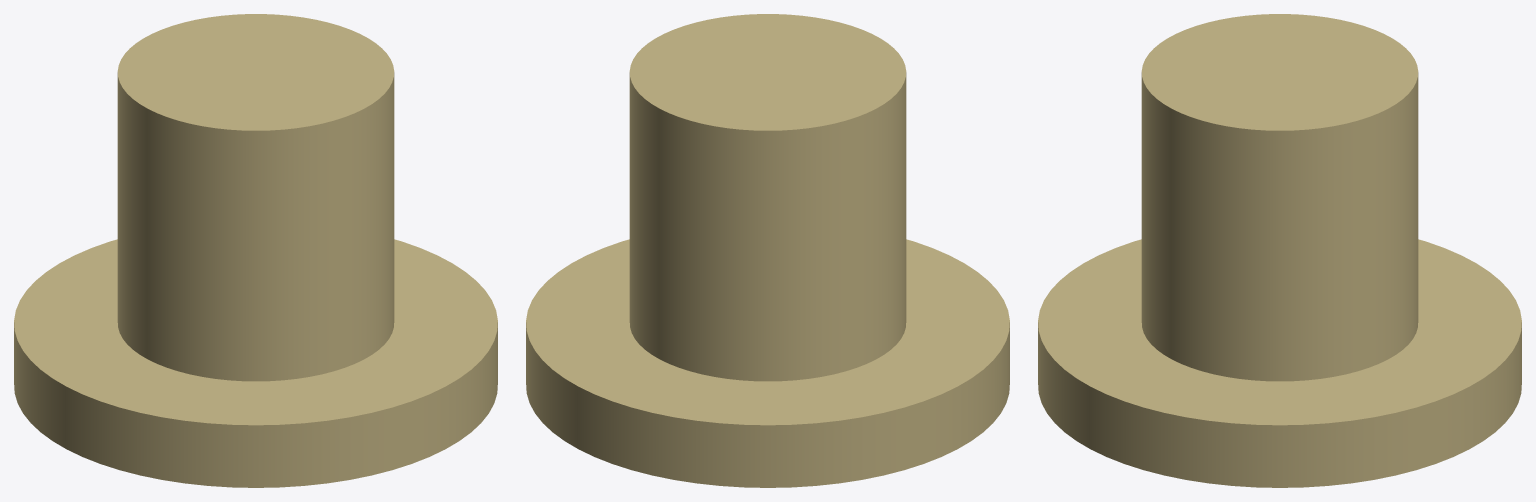
The model's file is step_04.glb.
3 renders of one model, left to right at view 1: azimuth 30°, elevation 25°; view 2: azimuth 150°, elevation 25°; view 3: azimuth 270°, elevation 25°, orthographic.
Visible parts, largest first — view 1: part__flanged bush; view 2: part__flanged bush; view 3: part__flanged bush.
Boxes of the visible parts, x1=… form: part__flanged bush: x1=14, y1=14, x2=497, y2=487; part__flanged bush: x1=526, y1=14, x2=1009, y2=487; part__flanged bush: x1=1038, y1=14, x2=1521, y2=487.
Size of the model in its own units: 69.96 by 50 by 69.98.
